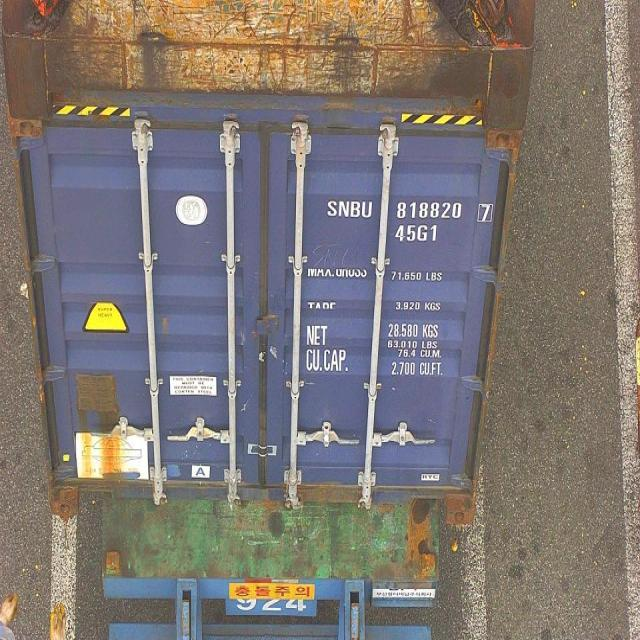ISO: (396, 224, 438, 244)
container_number: (335, 199, 484, 223)
